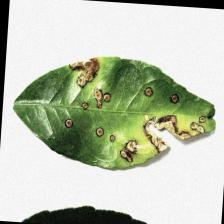canker: (59, 52, 210, 180)
